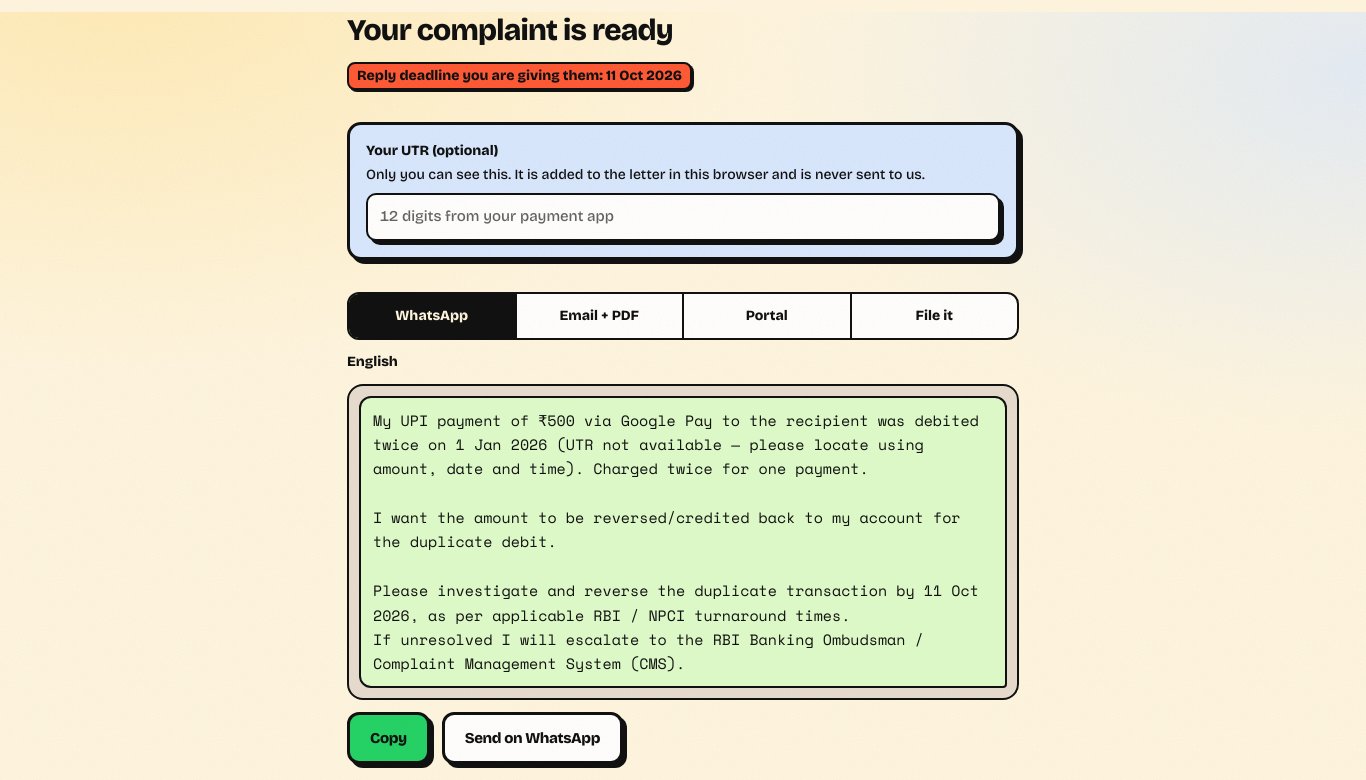
Test case: PacketView › shows the UTR box only for UPI packets, and substitutes what is typed into it live
The width and height of the screenshot is (1366, 780).
Expected: the text "UTR not available" is shown, [373,408,988,674]
In the field labelled "Your UTR (optional)": (683, 216) [366,192,1000,240], type "402912345678"
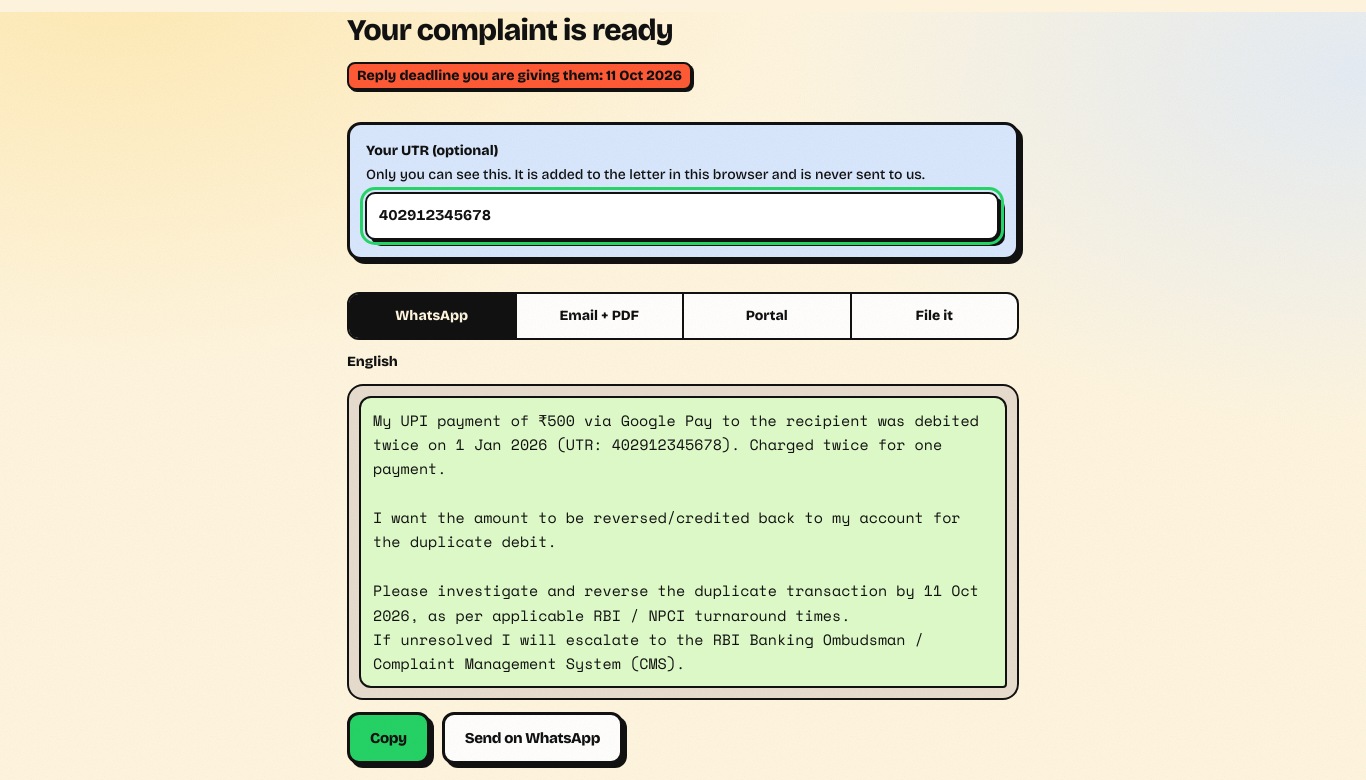
Now the text "UTR not available" is gone
Now the text "402912345678" is shown, box [373,408,988,674]
